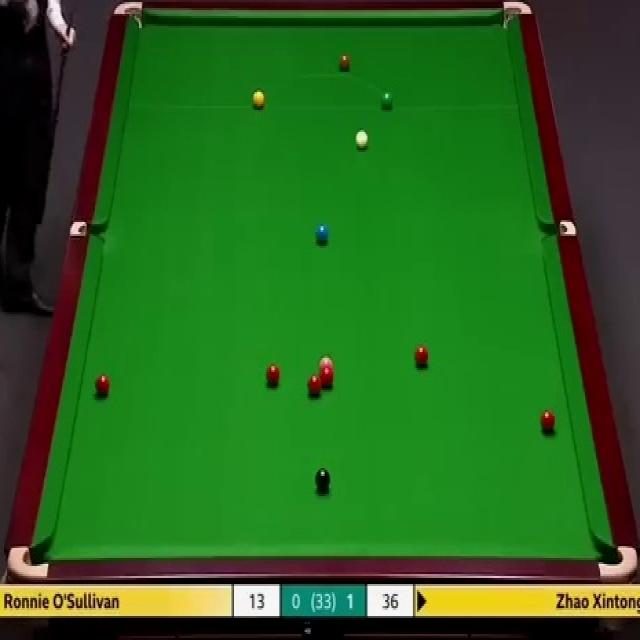black-ball: (315, 466, 331, 492)
blue-ball: (315, 222, 330, 244)
brown-ball: (338, 52, 351, 72)
green-ball: (380, 89, 393, 110)
pink-ball: (318, 356, 334, 370)
red-ball: (95, 372, 111, 398), (540, 411, 557, 433), (318, 367, 335, 388), (265, 364, 280, 386), (414, 345, 428, 368), (308, 376, 322, 396)
white-ball: (353, 127, 371, 152)
yellow-ball: (252, 88, 265, 109)
